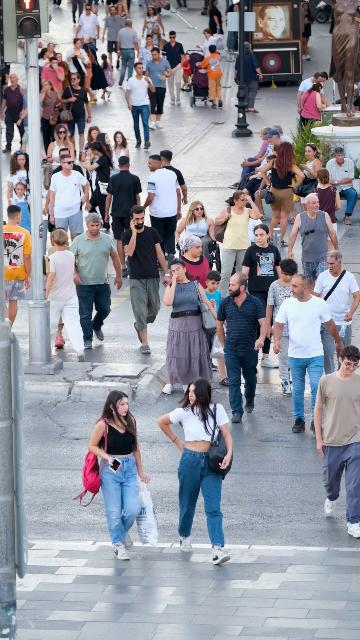person: (157, 379, 232, 566), (272, 274, 344, 434), (88, 390, 151, 561), (314, 344, 360, 540), (216, 273, 271, 424), (121, 205, 172, 355), (68, 213, 123, 350), (162, 258, 216, 396), (313, 250, 360, 376), (45, 228, 86, 362), (287, 193, 340, 294), (262, 258, 299, 397), (214, 190, 261, 299), (104, 156, 144, 277), (261, 142, 306, 247), (43, 155, 92, 242), (143, 154, 182, 262), (225, 125, 273, 206), (241, 224, 283, 312), (3, 205, 32, 326), (58, 72, 92, 162), (6, 149, 46, 223), (234, 129, 281, 191), (174, 200, 215, 266), (125, 62, 156, 149), (81, 140, 111, 229), (325, 147, 358, 226), (144, 47, 173, 130), (309, 168, 341, 242), (16, 84, 44, 161), (235, 41, 264, 113), (0, 73, 26, 153), (176, 235, 211, 291), (295, 143, 323, 212), (39, 79, 62, 163), (297, 71, 329, 131), (161, 31, 185, 106), (195, 45, 223, 108), (68, 38, 94, 104), (82, 41, 109, 101), (159, 150, 188, 205), (117, 19, 140, 87), (254, 154, 277, 220), (300, 82, 329, 126), (48, 147, 85, 181), (46, 124, 76, 165), (9, 182, 32, 233), (140, 6, 165, 48), (194, 28, 225, 61), (201, 270, 222, 317), (138, 34, 160, 77), (95, 132, 116, 176), (40, 57, 66, 92), (225, 0, 240, 53), (207, 0, 224, 46), (80, 126, 99, 161), (111, 131, 130, 166), (101, 53, 114, 99), (180, 52, 192, 92), (55, 53, 70, 84), (271, 124, 293, 145), (38, 47, 51, 81)
